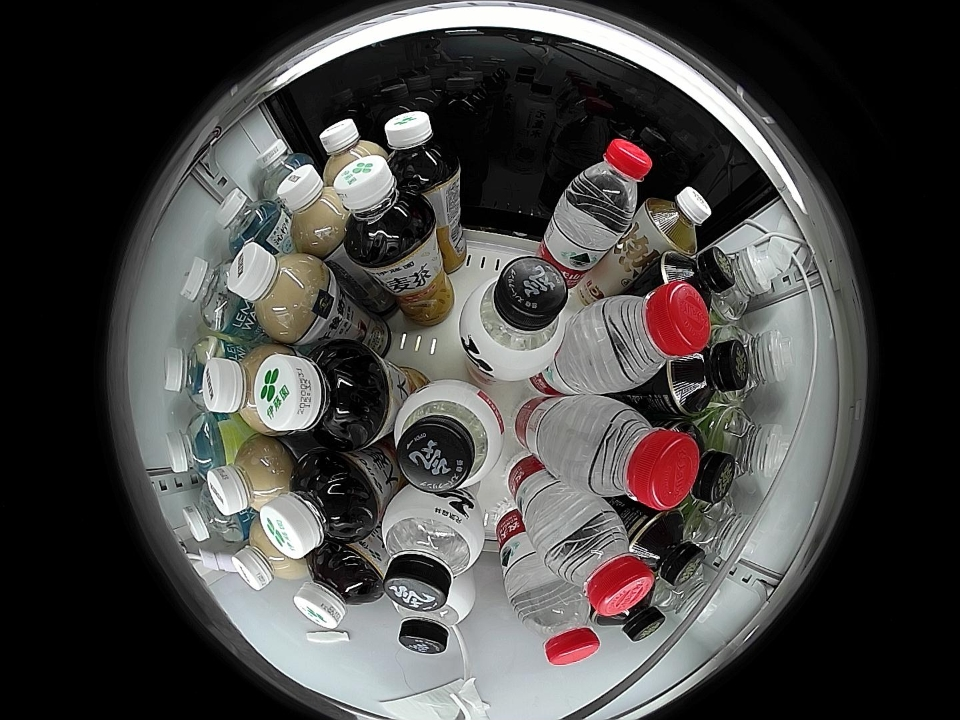damaicha: (257, 339, 390, 448), (260, 452, 380, 558), (334, 156, 435, 263), (295, 546, 382, 632), (384, 109, 458, 189)
jianjiao: (711, 407, 787, 480), (723, 327, 791, 400), (710, 247, 775, 321), (686, 495, 753, 558), (661, 567, 720, 626)
nongfushanquan: (572, 281, 710, 393), (567, 398, 697, 510), (545, 506, 653, 616), (564, 137, 652, 227), (516, 587, 601, 666)
qinningshui: (179, 256, 244, 332), (164, 336, 223, 410), (214, 188, 283, 251), (166, 412, 229, 477), (183, 487, 246, 544), (256, 135, 315, 189)
rancha-1: (663, 337, 747, 416), (628, 510, 704, 588), (659, 249, 737, 310), (682, 429, 737, 506), (603, 594, 665, 642)
rancha-2: (643, 186, 712, 255)
wuhounaicha: (227, 243, 330, 341), (202, 346, 291, 433), (207, 435, 291, 516), (278, 164, 348, 251), (232, 520, 305, 591), (319, 117, 385, 178)
yuanqishui: (459, 256, 571, 379), (381, 491, 484, 613), (394, 381, 505, 493), (393, 581, 477, 654)
